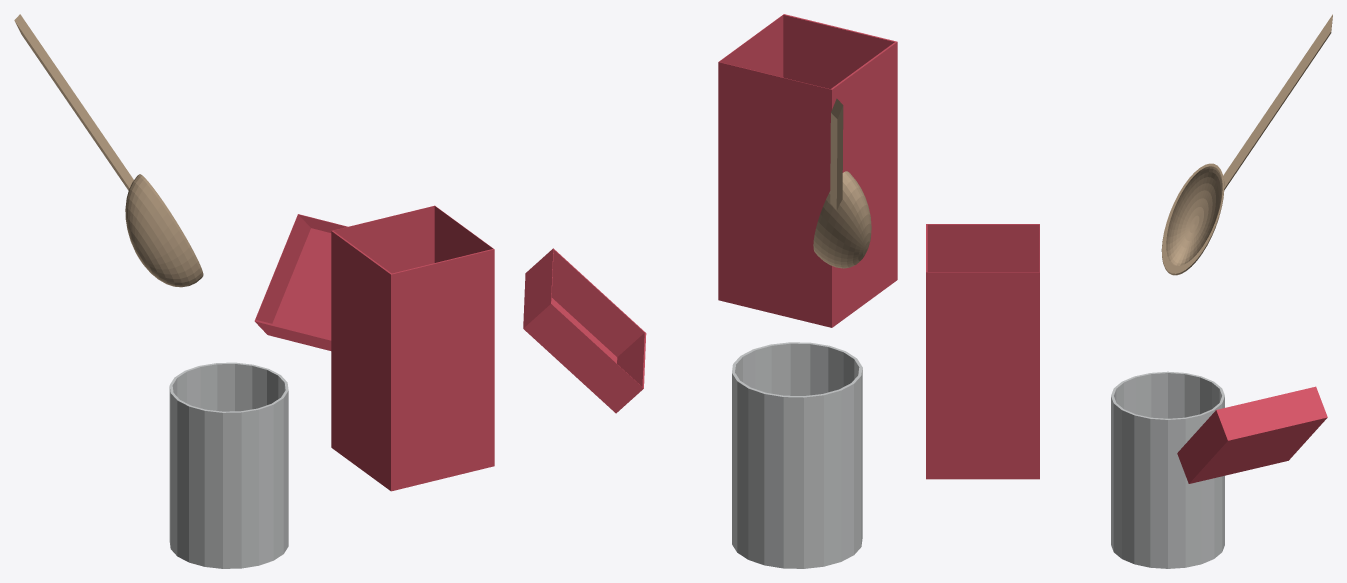
The model's file is coffee_scene.glb.
3 renders of one model, left to right at view 1: azimuth 30°, elevation 25°; view 2: azimuth 150°, elevation 25°; view 3: azimuth 270°, elevation 25°, orthographic. The views are drawn at different scales.
Visible parts, largest first — view 1: Mesh_Mesh_head_geo.001_lambert2SG.001; view 2: Mesh_Mesh_head_geo.001_lambert2SG.001; view 3: Mesh_Mesh_head_geo.001_lambert2SG.001.
Part boxes in pixels (left/top/right/bottom): Mesh_Mesh_head_geo.001_lambert2SG.001: left=14, top=14, right=494, bottom=568; Mesh_Mesh_head_geo.001_lambert2SG.001: left=523, top=14, right=897, bottom=568; Mesh_Mesh_head_geo.001_lambert2SG.001: left=926, top=14, right=1332, bottom=568.
Bounding box in the file's own units: 166 × 229 × 178.
